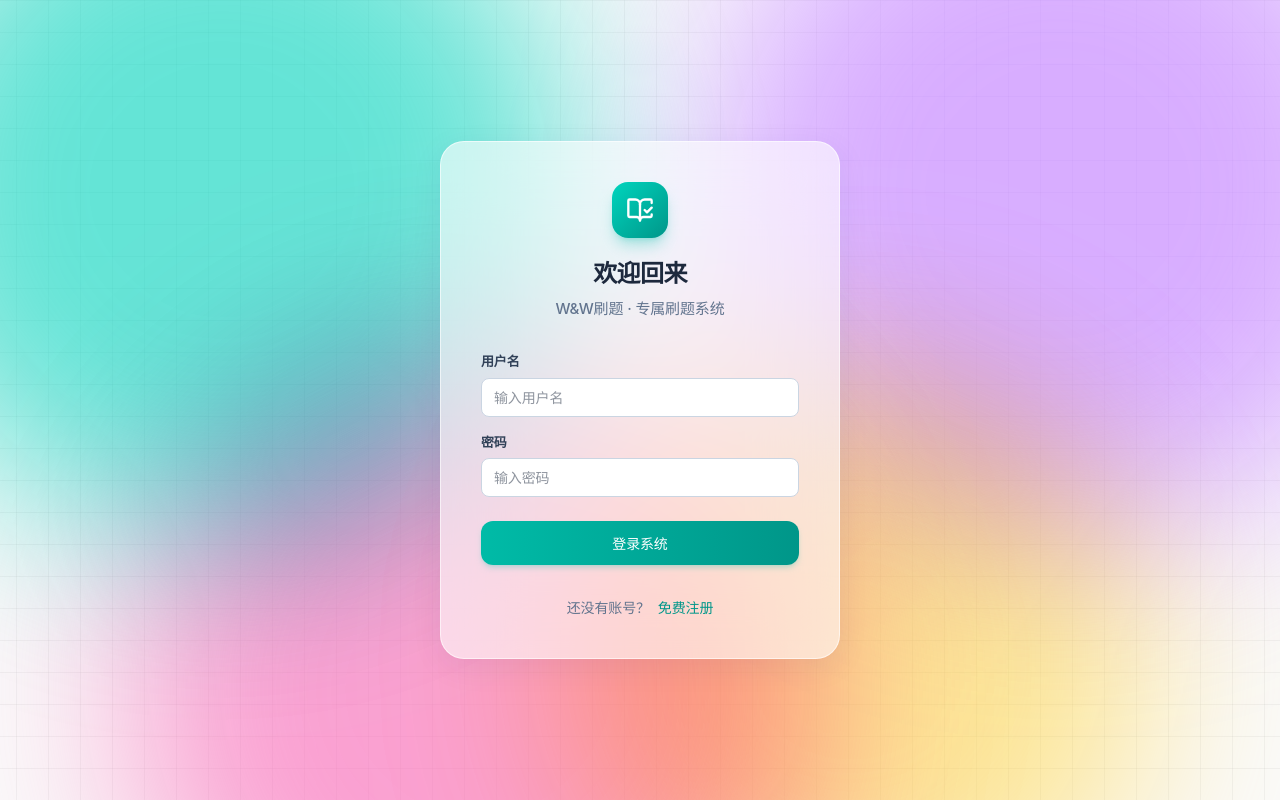
Scenario: practice flow › practice mode: select answer, reveal, and see result
Step 1. Type "alice" into the field labelled "用户名" → [640, 397], box [481,378,799,417]
Step 2. Type "correct-password" into the password field labelled "密码" → [640, 478], box [481,458,799,497]
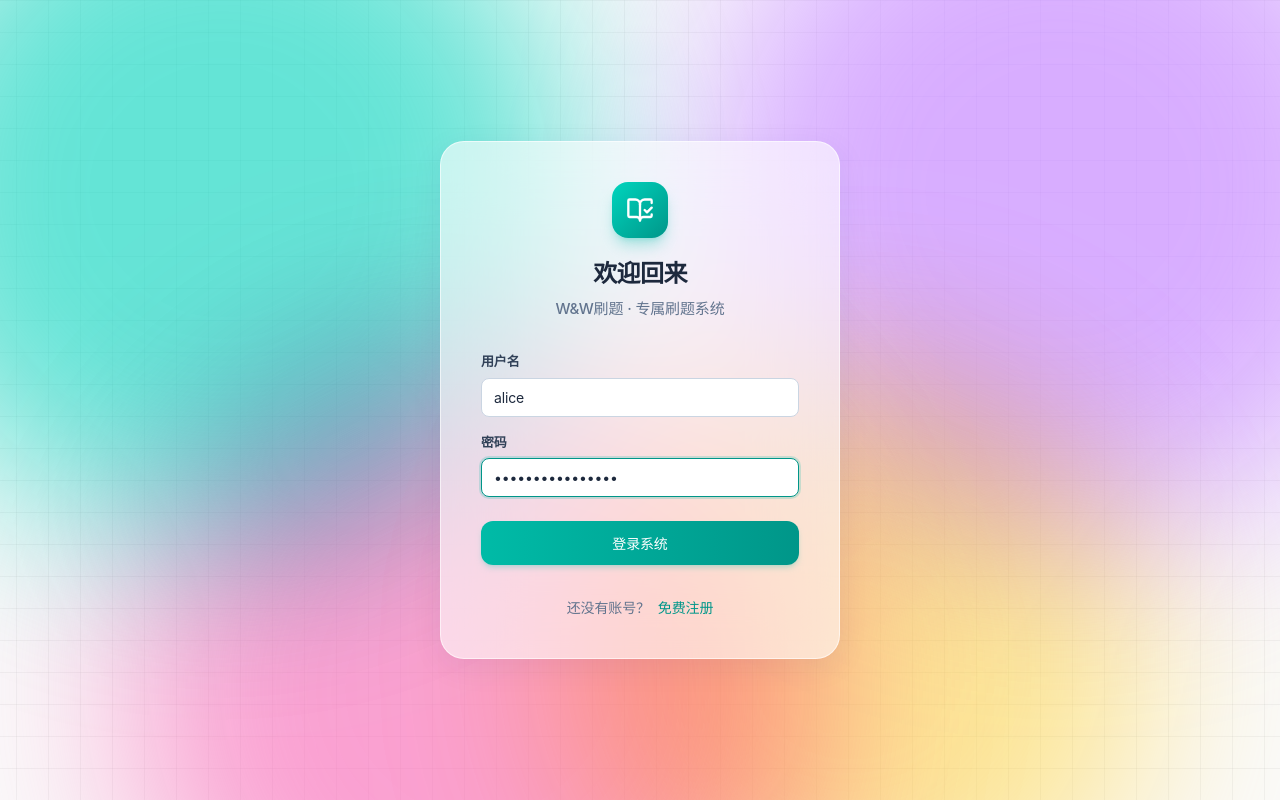
Step 3. Click the button "登录系统" → [640, 543], box [481,521,799,565]
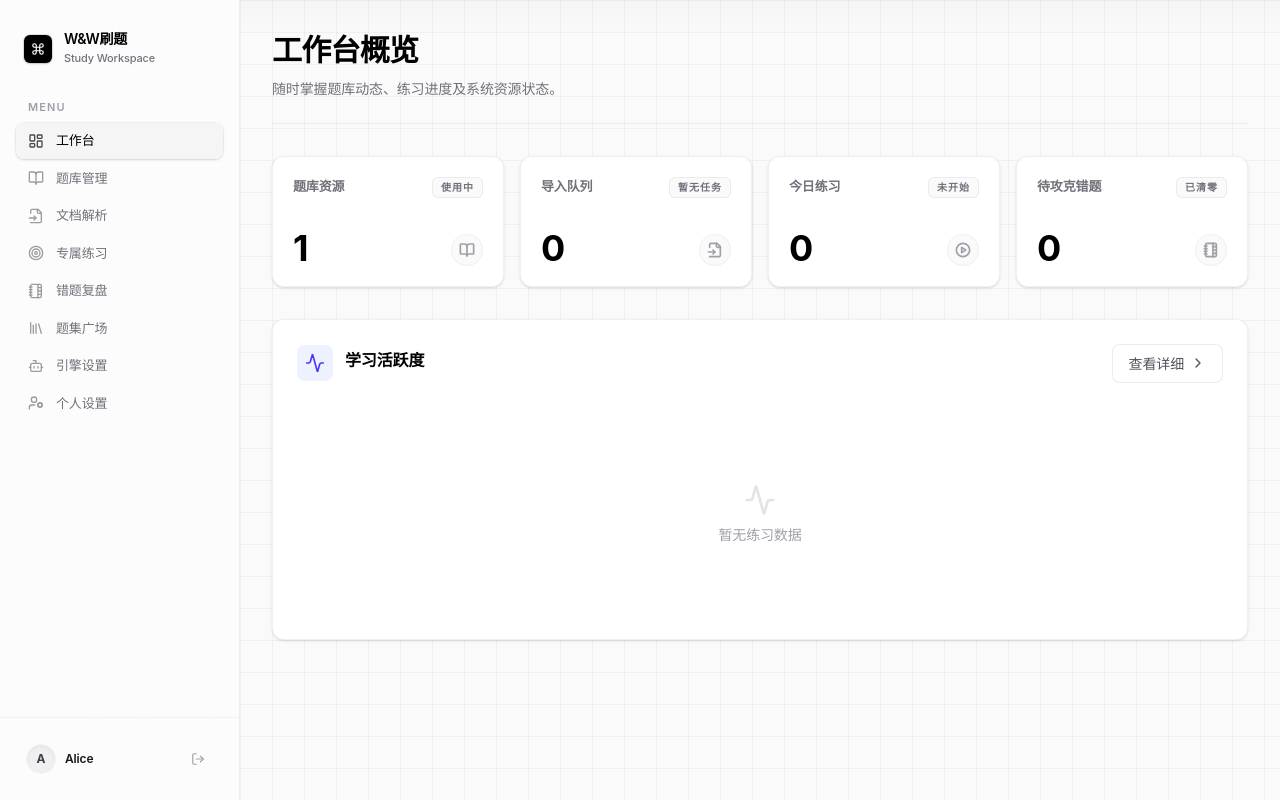
Expected: the heading "工作台概览" is shown, [272,32,418,68]
Navigate to practice
Step 4. Click the link "专属练习" → [68, 253], box [28,244,108,261]
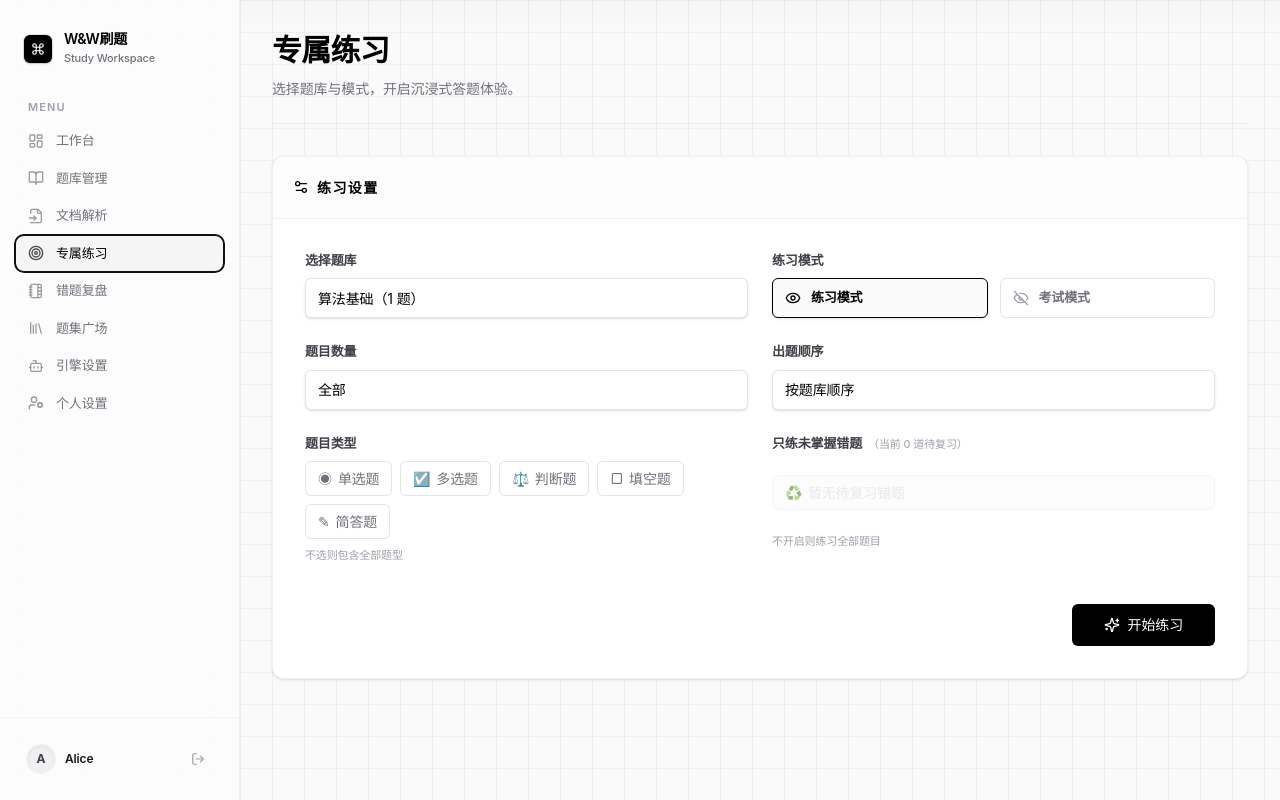
Step 5. Select "算法基础（1 题）" in the dropdown labelled "选择题库" → [526, 298], box [305,278,748,318]
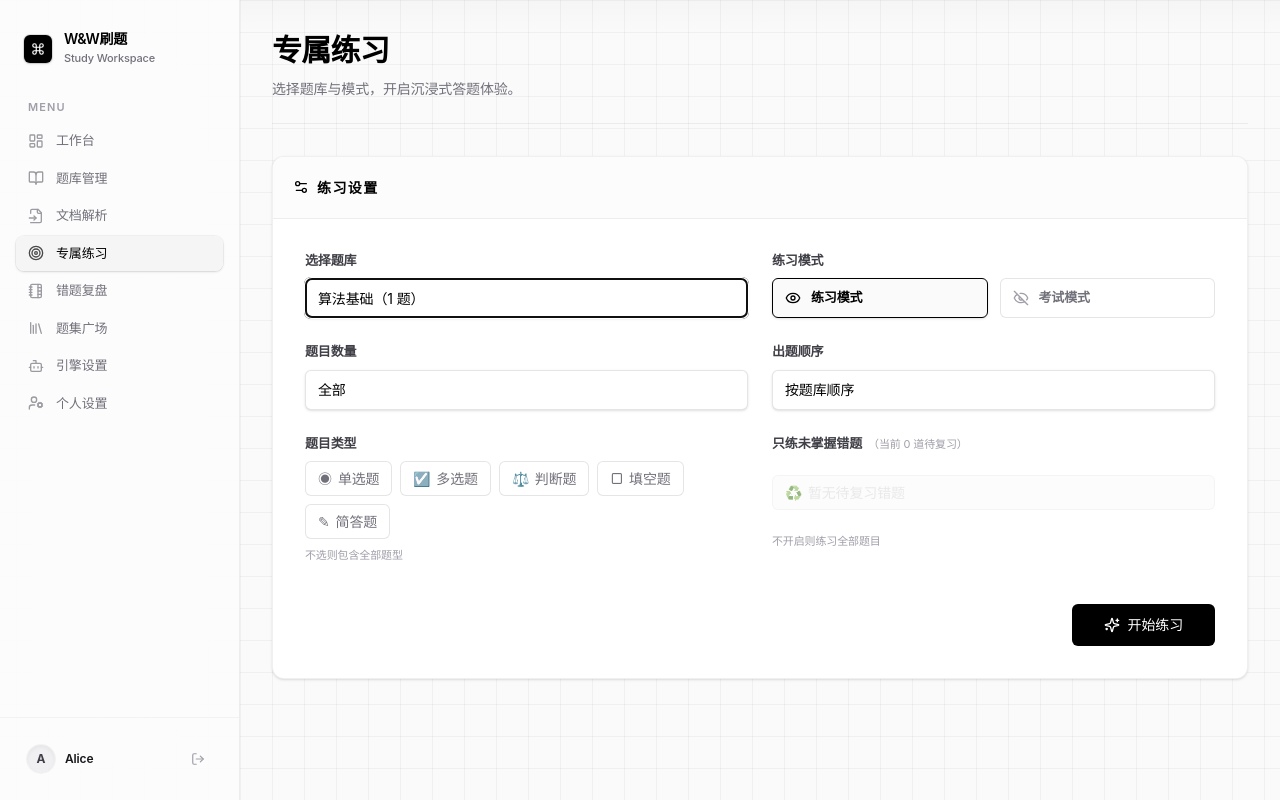
Start practice (default: practice mode)
Step 6. Click the button "开始练习" → [1143, 624], box [1072,604,1215,646]
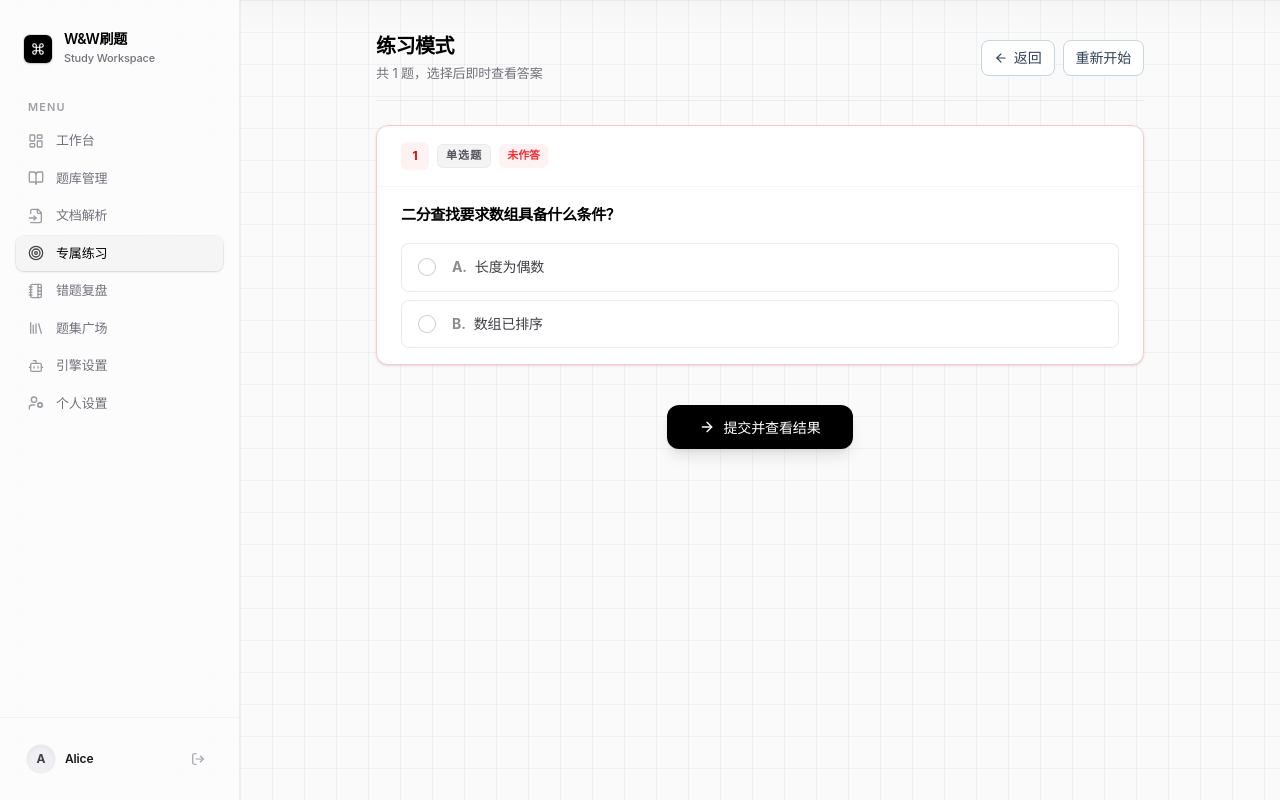
Expected: the text "二分查找要求数组具备什么条件？" is shown, [401,204,620,224]
Select answer B (auto-reveals in practice mode)
Step 7. Click the radio button named "B. 数组已排序" → [508, 323], box [401,300,1119,348]
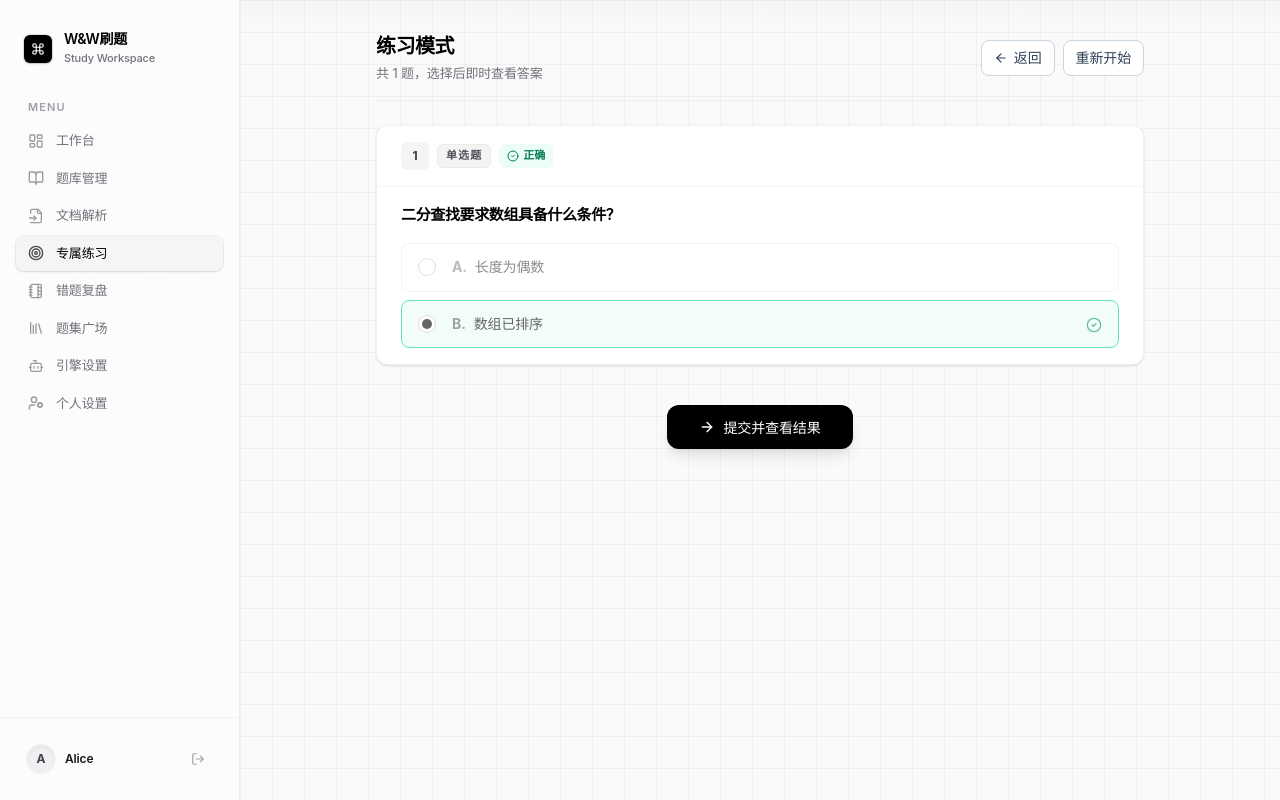
Expected: the text "正确" is shown, [499,144,553,168]
